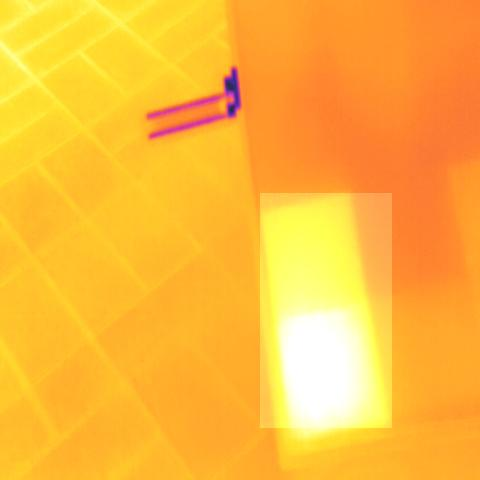fault: (260, 193, 392, 428)
